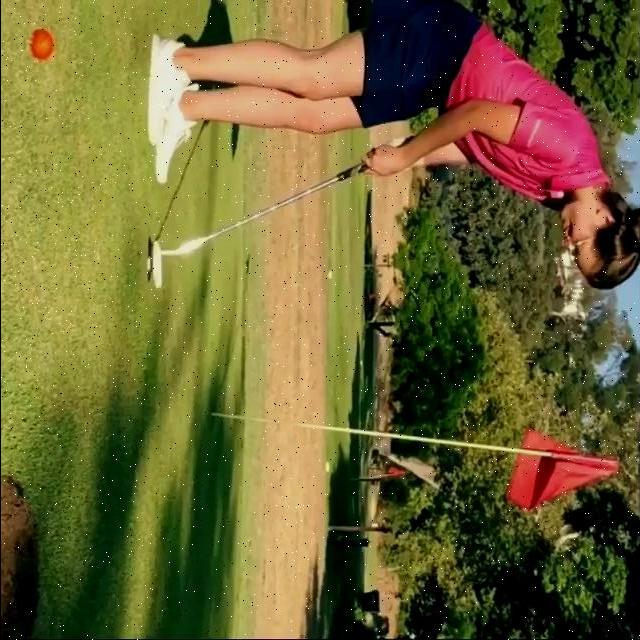golf ball: (30, 24, 57, 61)
golf club-handle: (147, 141, 414, 289)
golf club-head: (142, 241, 161, 287)
